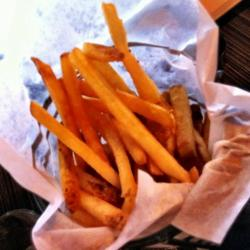fries: (34, 46, 197, 201)
